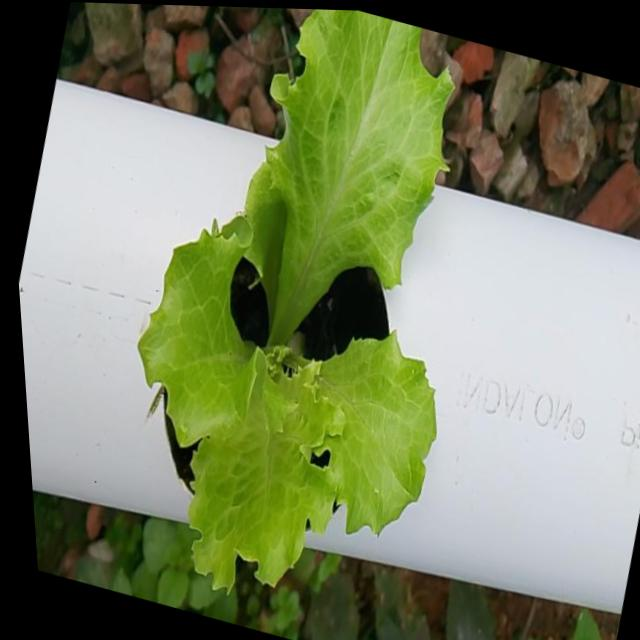Baby: (151, 10, 462, 588)
